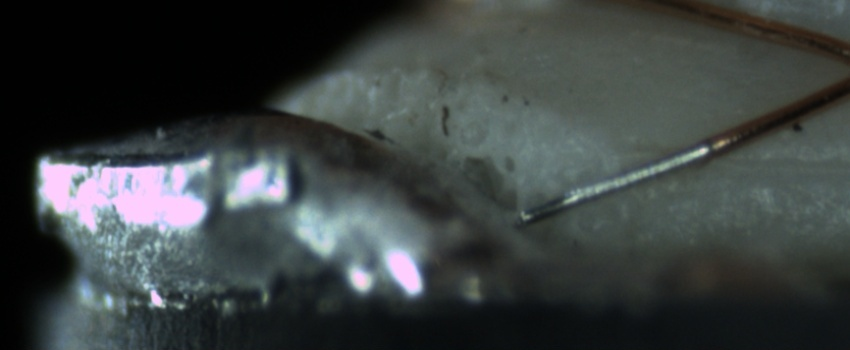DL: (579, 125, 850, 189)
TS: (517, 146, 710, 224)
